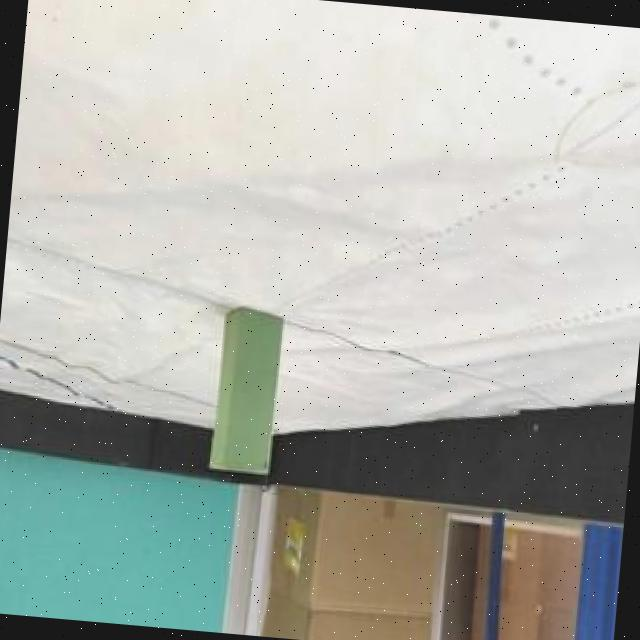greenbox: (206, 304, 282, 475)
